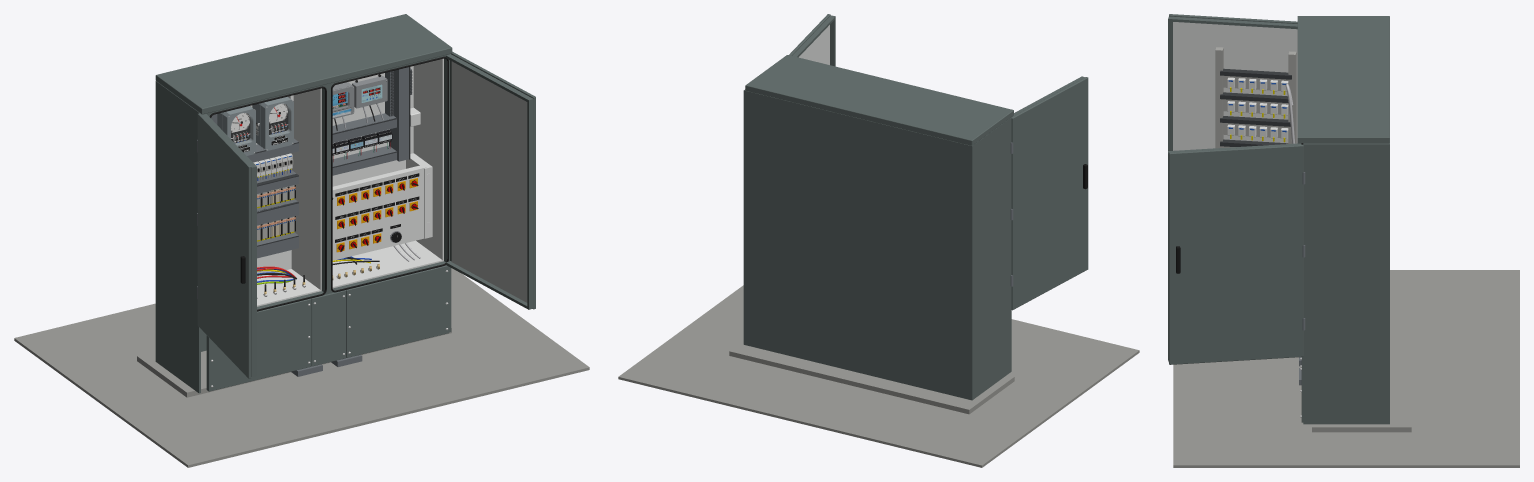
File: FCC_Panel.glb
3 views of the same model, side by side, from view 1: azimuth 30°, elevation 25°; view 2: azimuth 150°, elevation 25°; view 3: azimuth 270°, elevation 25° (orthographic). The views are drawn at different scales.
Visible parts, largest first — view 1: Cabinet_Shell, Ground, Door_Right, Bay_Interior, Door_Left, SwingPlate_Body, RightBay_Frame, LeftBay_Frame, SwingPlate_CamSwitches, Plinth_Feet, WTI_F72_Housing, Door_Gasket_2 (+6 smaller); view 2: Cabinet_Shell, Ground, Door_Left, Plinth_Feet, Door_Right; view 3: Ground, Cabinet_Shell, Door_Right, Door_Left, Plinth_Feet.
Part boxes in pixels (left/top/right/bottom): Cabinet_Shell: left=155, top=14, right=452, bottom=393; Ground: left=14, top=268, right=589, bottom=467; Door_Right: left=446, top=51, right=535, bottom=309; Bay_Interior: left=250, top=58, right=443, bottom=306; Door_Left: left=197, top=113, right=256, bottom=378; SwingPlate_Body: left=332, top=153, right=432, bottom=260; RightBay_Frame: left=332, top=67, right=420, bottom=175; LeftBay_Frame: left=211, top=95, right=298, bottom=258; SwingPlate_CamSwitches: left=335, top=173, right=419, bottom=252; Plinth_Feet: left=137, top=327, right=451, bottom=397; WTI_F72_Housing: left=252, top=96, right=293, bottom=150; Door_Gasket_2: left=331, top=56, right=448, bottom=292; Cabinet_Shell: left=743, top=55, right=1013, bottom=400; Ground: left=618, top=285, right=1139, bottom=467; Door_Left: left=1010, top=76, right=1088, bottom=310; Plinth_Feet: left=729, top=341, right=1014, bottom=414; Door_Right: left=789, top=14, right=835, bottom=66; Ground: left=1173, top=270, right=1519, bottom=467; Cabinet_Shell: left=1297, top=16, right=1389, bottom=424; Door_Right: left=1168, top=143, right=1305, bottom=364; Door_Left: left=1168, top=14, right=1301, bottom=150; Plinth_Feet: left=1299, top=298, right=1411, bottom=432.
Bounding box in the file's own units: 3.2 × 2.25 × 2.44.
Materials: 82 (7 with a texture image).
